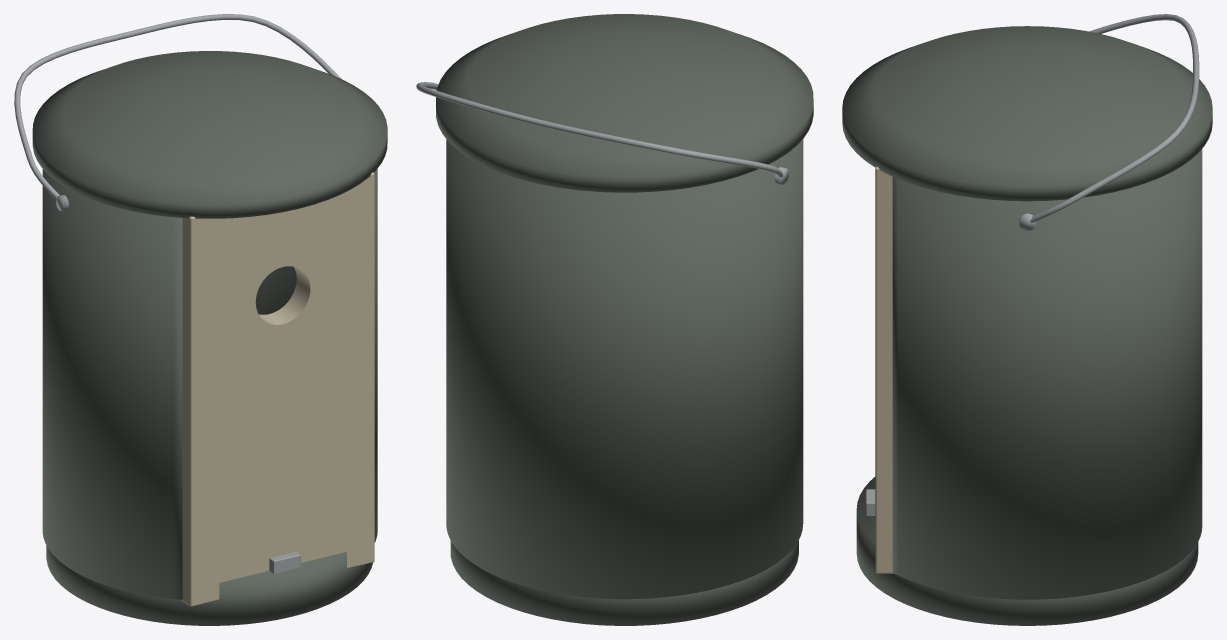
File: full.glb
3 views of the same model, side by side, from view 1: azimuth 30°, elevation 25°; view 2: azimuth 150°, elevation 25°; view 3: azimuth 270°, elevation 25° (orthographic). The views are drawn at different scales.
Parts seen in each view (by area): view 1: Recessed removable front panel, Thick curved chamber wall, Overhanging domed roof, Closed chamber floor, Bent wire hanging loop, Generic front retaining tab; view 2: Thick curved chamber wall, Overhanging domed roof, Closed chamber floor, Bent wire hanging loop; view 3: Thick curved chamber wall, Overhanging domed roof, Closed chamber floor, Recessed removable front panel, Bent wire hanging loop.
Boxes of the visible parts, bbox=[...] form: Recessed removable front panel: bbox=[181, 172, 374, 606]; Thick curved chamber wall: bbox=[42, 169, 377, 599]; Overhanging domed roof: bbox=[32, 51, 387, 218]; Closed chamber floor: bbox=[46, 545, 372, 625]; Bent wire hanging loop: bbox=[14, 14, 341, 200]; Generic front retaining tab: bbox=[269, 551, 300, 573]; Thick curved chamber wall: bbox=[446, 139, 803, 599]; Overhanging domed roof: bbox=[436, 14, 813, 192]; Closed chamber floor: bbox=[450, 540, 798, 625]; Bent wire hanging loop: bbox=[416, 82, 783, 177]; Thick curved chamber wall: bbox=[892, 149, 1202, 599]; Overhanging domed roof: bbox=[842, 26, 1212, 201]; Closed chamber floor: bbox=[856, 477, 1198, 625]; Recessed removable front panel: bbox=[875, 166, 894, 573]; Bent wire hanging loop: bbox=[1030, 14, 1199, 222].
Size of the model in its own units: 0.1864 by 0.2606 by 0.18.
